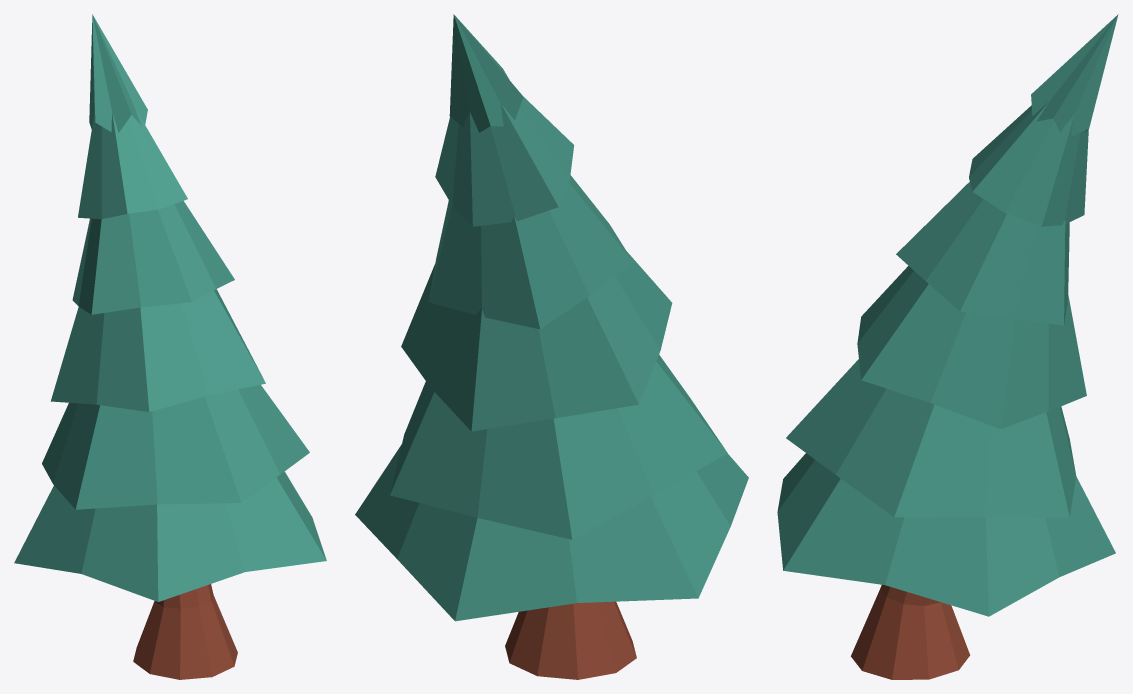
The model's file is pinetree2bend.fbx.
3 renders of one model, left to right at view 1: azimuth 30°, elevation 25°; view 2: azimuth 150°, elevation 25°; view 3: azimuth 270°, elevation 25°, orthographic. The views are drawn at different scales.
Parts seen in each view (by area): view 1: Cylinder, Cylinder.001; view 2: Cylinder, Cylinder.001; view 3: Cylinder, Cylinder.001.
Boxes of the visible parts, <box> form: Cylinder: <box>14,14,326,601</box>; Cylinder.001: <box>133,584,237,679</box>; Cylinder: <box>355,14,748,621</box>; Cylinder.001: <box>505,601,636,679</box>; Cylinder: <box>777,14,1118,616</box>; Cylinder.001: <box>851,584,970,679</box>.
Bounding box in the file's own units: 421 × 849 × 409.
